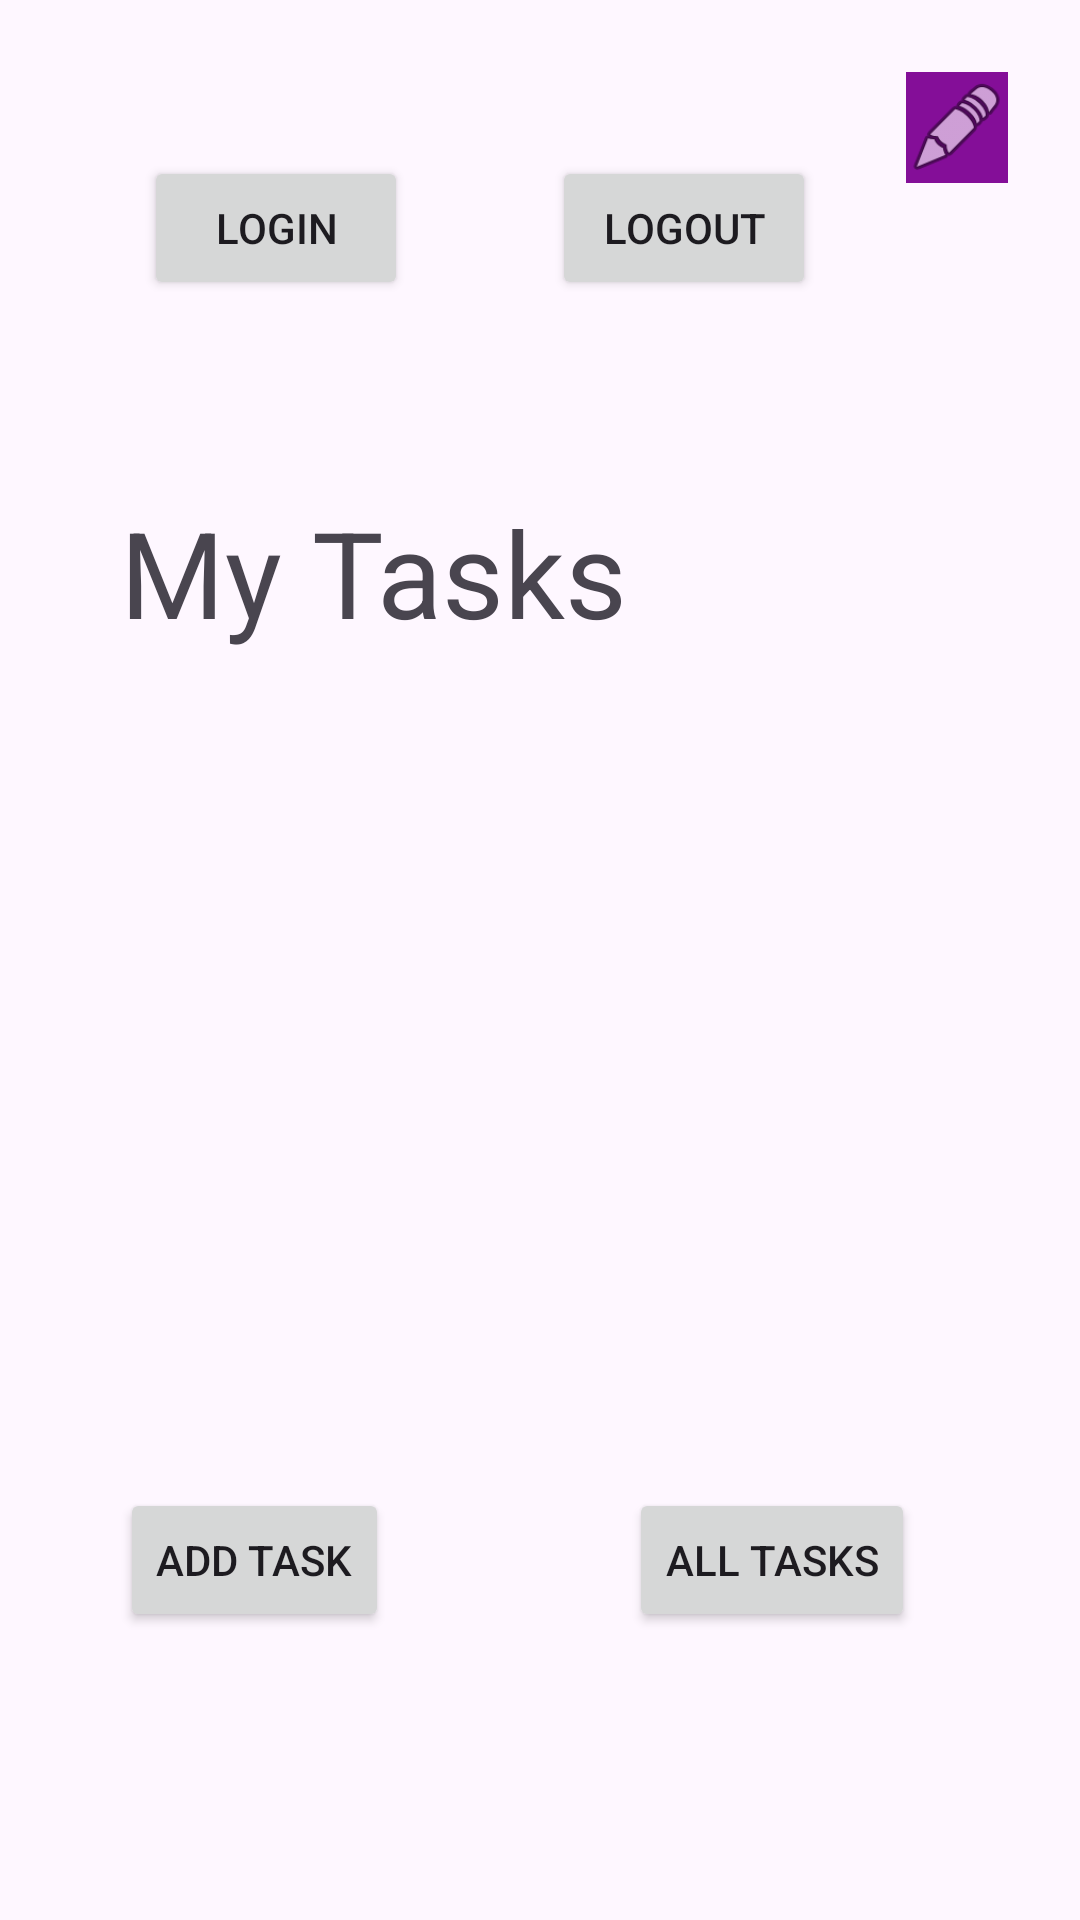

Where to tap for icons on this 1080*1920 app screen, as (x=x, y=y):
edit: (x=957, y=127)
